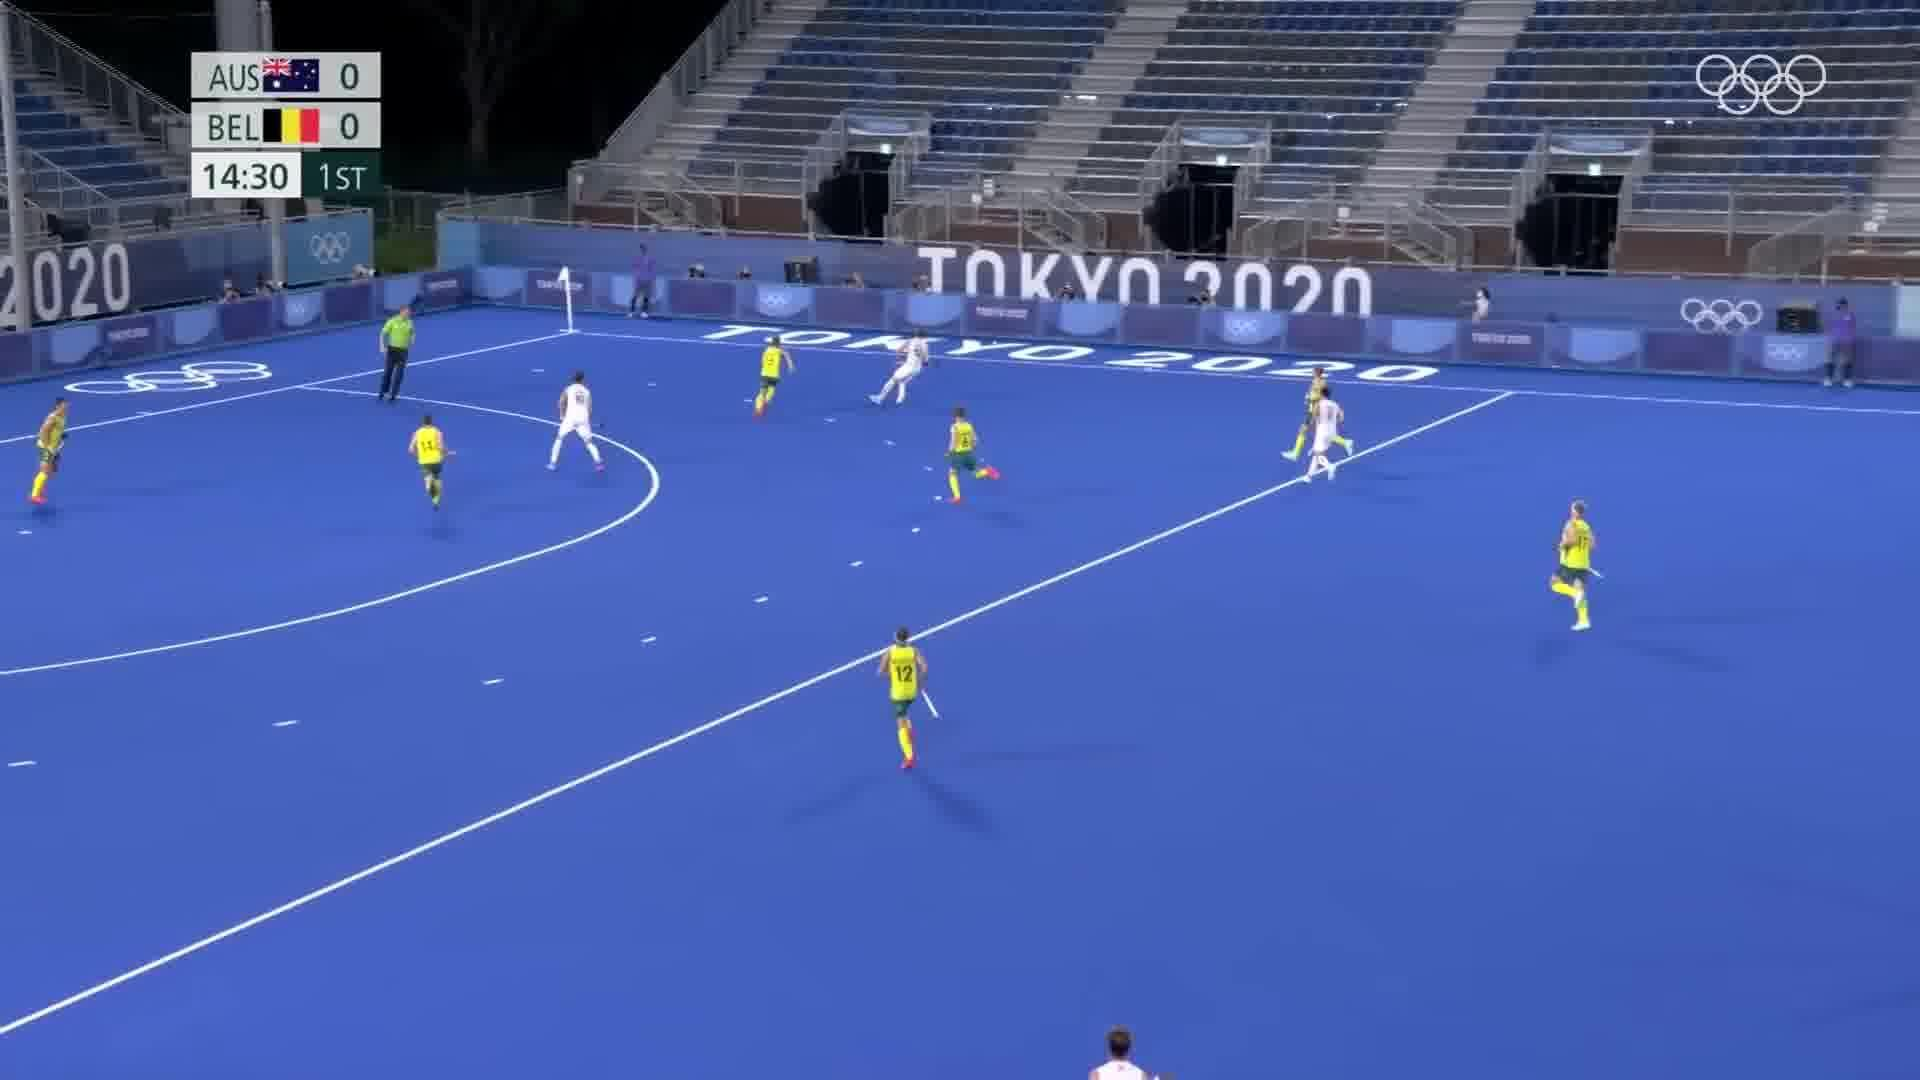ball: (993, 339, 1001, 347)
